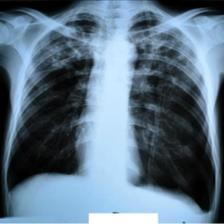tuberculosis: (5, 6, 221, 218)
